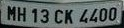character: (6, 4, 16, 21), (78, 8, 89, 23), (53, 8, 63, 24), (89, 8, 99, 23), (17, 6, 26, 22), (40, 8, 49, 24), (64, 8, 73, 24), (98, 7, 107, 22), (108, 6, 117, 21), (31, 7, 38, 24)
